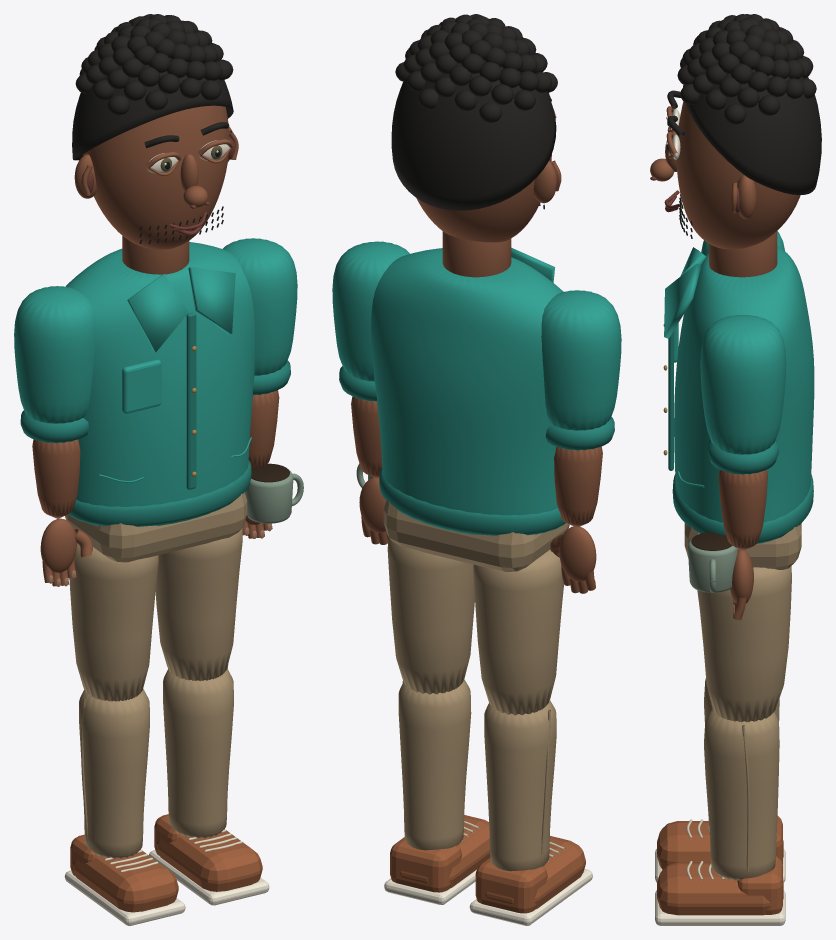
File: milo.glb
3 renders of one model, left to right at view 1: azimuth 30°, elevation 25°; view 2: azimuth 150°, elevation 25°; view 3: azimuth 270°, elevation 25°, orthographic.
Visible parts, largest first — view 1: Milo_Sweater, Milo_Brow, Milo_Face, Milo_Upper trouserL, Milo_Lower trouserL, Milo_Upper trouserR, Milo_Lower trouserR, Milo_SleeveL, Milo_SleeveR, Milo_Hem, Milo_Pelvis, Milo_ShoeL (+11 smaller); view 2: Milo_Sweater, Milo_Brow, Milo_Upper trouserL, Milo_Upper trouserR, Milo_Lower trouserR, Milo_Lower trouserL, Milo_SleeveL, Milo_SleeveR, Milo_Pelvis, Milo_ShoeL, Milo_Face, Milo_ShoeR (+10 smaller); view 3: Milo_Sweater, Milo_Brow, Milo_Lower trouserR, Milo_Upper trouserR, Milo_SleeveR, Milo_Face, Milo_ShoeR, Milo_Forearm skinR, Milo_Hem, Milo_ShoeL, Milo_Neck, Milo_Ceramic cup (+5 smaller).
Part boxes in pixels (x1=…): Milo_Sweater: x1=65, y1=242, x2=254, y2=525; Milo_Brow: x1=72, y1=14, x2=233, y2=243; Milo_Face: x1=74, y1=105, x2=238, y2=249; Milo_Upper trouserL: x1=69, y1=543, x2=158, y2=701; Milo_Lower trouserL: x1=79, y1=689, x2=149, y2=858; Milo_Upper trouserR: x1=155, y1=528, x2=242, y2=681; Milo_Lower trouserR: x1=163, y1=664, x2=233, y2=838; Milo_SleeveL: x1=14, y1=286, x2=95, y2=423; Milo_SleeveR: x1=223, y1=238, x2=297, y2=375; Milo_Hem: x1=69, y1=312, x2=251, y2=526; Milo_Pelvis: x1=65, y1=492, x2=247, y2=562; Milo_ShoeL: x1=70, y1=834, x2=178, y2=912; Milo_Sweater: x1=371, y1=247, x2=563, y2=534; Milo_Brow: x1=391, y1=14, x2=557, y2=210; Milo_Upper trouserL: x1=473, y1=550, x2=563, y2=715; Milo_Upper trouserR: x1=387, y1=536, x2=474, y2=694; Milo_Lower trouserR: x1=398, y1=679, x2=471, y2=850; Milo_Lower trouserL: x1=484, y1=700, x2=556, y2=871; Milo_SleeveL: x1=541, y1=290, x2=621, y2=430; Milo_SleeveR: x1=332, y1=241, x2=409, y2=381; Milo_Pelvis: x1=383, y1=500, x2=569, y2=571; Milo_ShoeL: x1=475, y1=836, x2=585, y2=913; Milo_Face: x1=416, y1=154, x2=561, y2=242; Milo_ShoeR: x1=390, y1=815, x2=490, y2=892; Milo_Sweater: x1=664, y1=246, x2=814, y2=543; Milo_Brow: x1=667, y1=14, x2=821, y2=238; Milo_Lower trouserR: x1=704, y1=708, x2=779, y2=880; Milo_Upper trouserR: x1=697, y1=566, x2=791, y2=722; Milo_SleeveR: x1=700, y1=315, x2=786, y2=454; Milo_Face: x1=650, y1=101, x2=800, y2=249; Milo_ShoeR: x1=657, y1=856, x2=783, y2=915; Milo_Forearm skinR: x1=718, y1=469, x2=767, y2=550; Milo_Hem: x1=668, y1=331, x2=813, y2=543; Milo_ShoeL: x1=657, y1=816, x2=783, y2=869; Milo_Neck: x1=709, y1=231, x2=777, y2=277; Milo_Ceramic cup: x1=687, y1=538, x2=737, y2=592.
Bounding box in the file's own units: 0.6819 × 2.05 × 0.3669.
